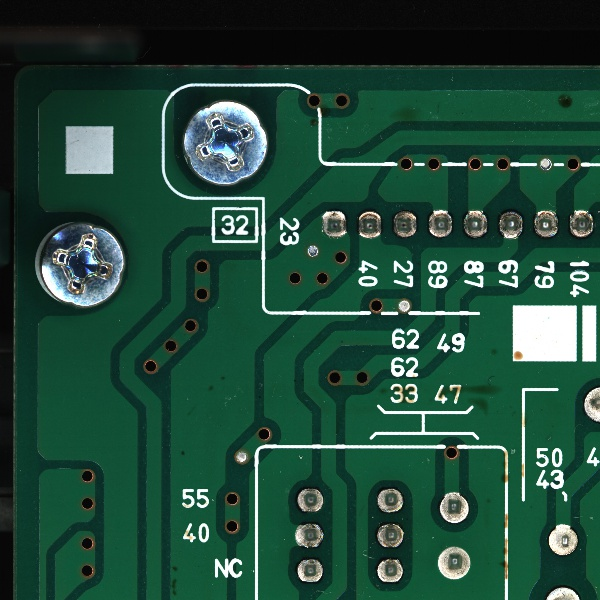Circle: (434, 541, 476, 581), (315, 205, 350, 243), (544, 523, 580, 559), (531, 204, 562, 244), (290, 520, 329, 551), (292, 556, 331, 586), (292, 484, 327, 517), (372, 483, 407, 516), (426, 205, 454, 246), (372, 555, 406, 588), (372, 519, 407, 551), (460, 205, 490, 242), (356, 206, 384, 245), (497, 207, 525, 245), (568, 204, 595, 243), (435, 492, 468, 523), (391, 207, 418, 239)
